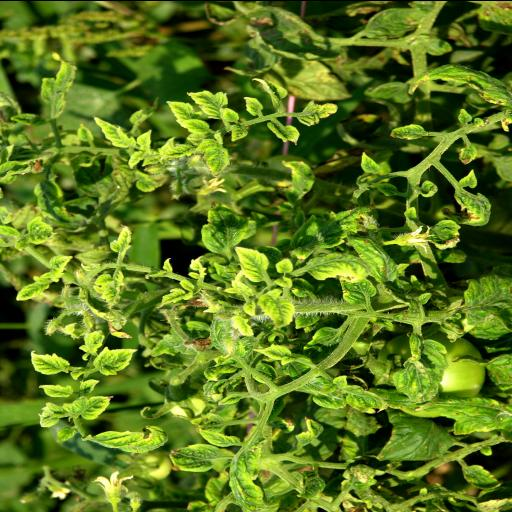Yellow Leaf Curl Virus: (290, 202, 376, 260), (406, 62, 512, 108), (390, 326, 450, 404), (425, 395, 512, 437), (198, 198, 256, 258), (341, 229, 404, 281), (228, 441, 268, 512), (319, 374, 388, 412), (88, 423, 168, 454), (40, 50, 76, 118), (305, 250, 371, 284), (89, 340, 148, 376), (258, 285, 302, 333), (441, 188, 491, 226), (169, 442, 231, 472), (233, 241, 275, 284), (190, 86, 232, 126), (281, 159, 315, 206), (91, 114, 135, 149), (295, 97, 344, 128), (62, 394, 114, 420), (92, 262, 122, 307), (197, 138, 231, 176), (28, 348, 74, 376), (156, 278, 194, 308), (339, 276, 377, 306), (24, 215, 60, 245), (461, 463, 502, 489), (106, 220, 136, 254), (252, 76, 288, 104), (14, 274, 52, 300), (252, 342, 296, 362), (167, 100, 197, 128), (76, 328, 104, 358), (46, 252, 80, 276), (266, 121, 300, 145), (197, 428, 241, 446), (36, 400, 64, 426), (160, 141, 198, 159), (389, 122, 426, 138), (229, 313, 255, 335), (36, 383, 74, 398), (10, 112, 48, 125), (360, 150, 382, 172), (457, 144, 478, 166), (124, 149, 148, 168), (372, 181, 402, 195), (136, 128, 155, 150), (244, 94, 264, 114), (78, 377, 100, 395), (458, 168, 480, 186), (54, 426, 76, 442), (76, 122, 94, 140), (275, 257, 295, 273), (216, 393, 240, 405)
